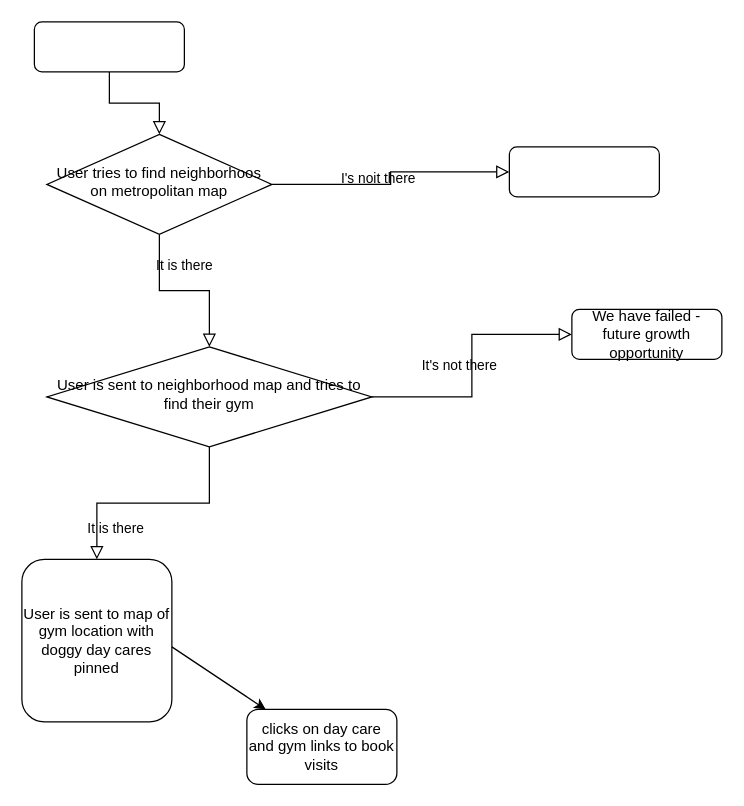
This 744x806 diagram has some shape labels left out. Each missing label, with the centre of its shape:
User lands on Home page: point (108, 46)
We have failed - furture growth opportunity: point (583, 171)
